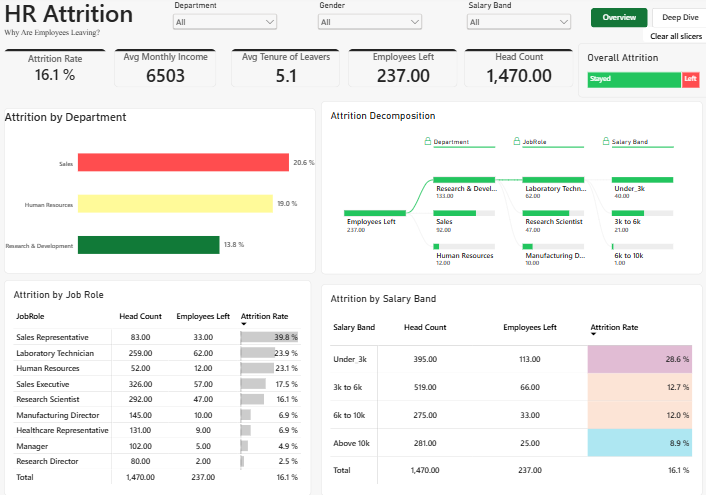

This screenshot's page, from the dashboard's own definition file:
{"tool":"powerbi","page":{"name":"Overview","canvas":[1280,900],"ordinal":0},"visuals":[{"type":"textbox","box":[10.5,0,245.9,56.5],"z":0},{"type":"textbox","box":[10.5,56.5,197.8,22],"z":1},{"type":"slicer","fields":{"Values":["hr_employees.Department"]},"box":[309.8,8.4,197.8,59.7],"z":2},{"type":"slicer","fields":{"Values":["hr_employees.Gender"]},"box":[571.4,8.4,197.8,59.7],"z":3},{"type":"slicer","fields":{"Values":["hr_employees.Salary Band"]},"box":[838.3,8.4,197.8,59.7],"z":4},{"type":"actionButton","box":[1160.6,56.5,119.3,27.2],"z":5},{"type":"pageNavigator","box":[1067.4,20.9,212.4,35.6],"z":6},{"type":"cardVisual","title":"ATTRITION RATE","fields":{"Data":["hr_employees.Attrition Rate"]},"box":[10.5,95.2,184,69.1],"z":7},{"type":"cardVisual","fields":{"Data":["hr_employees.Avg Monthly Income"]},"box":[208.3,95.2,184.2,69.1],"z":8},{"type":"cardVisual","fields":{"Data":["hr_employees.Head Count"]},"box":[838.3,95.2,197.8,69.1],"z":10},{"type":"cardVisual","fields":{"Data":["hr_employees.Avg Tenure of Leavers"]},"box":[418.6,95.2,196.7,69.1],"z":11},{"type":"cardVisual","fields":{"Data":["hr_employees.Employees Left"]},"box":[630,95.2,197.8,69.1],"z":12},{"type":"treemap","title":"Overall Attrition","fields":{"Values":["hr_employees.Employees Stayed","hr_employees.Employees Left"]},"box":[1043.4,83.7,236.5,98.4],"z":13},{"type":"barChart","title":"Attrition by Department","fields":{"Category":["hr_employees.Department"],"Y":["hr_employees.Attrition Rate"]},"box":[10.5,202,560.9,298.3],"z":14},{"type":"decompositionTreeVisual","title":"Attrition Decomposition","fields":{"Analyze":["hr_employees.Employees Left"],"ExplainBy":["hr_employees.Department","hr_employees.JobRole","hr_employees.Salary Band"]},"box":[580.8,188.4,686.5,311.9],"z":15},{"type":"pivotTable","title":"Attrition by Job Role","fields":{"Rows":["hr_employees.JobRole"],"Values":["hr_employees.Head Count","hr_employees.Employees Left","hr_employees.Attrition Rate"]},"box":[10.5,510.7,552.6,389.3],"z":16},{"type":"pivotTable","title":"Attrition by Salary Band","fields":{"Rows":["hr_employees.Salary Band"],"Values":["hr_employees.Head Count","hr_employees.Employees Left","hr_employees.Attrition Rate"]},"box":[580.8,518,686.5,382],"z":17}]}

Visuals, with their boxes in screenshot pixels (x1, y1, x2, y2), scaled from the page's 1280x900 canvas onto the 706x495 screenshot:
textbox: [6, 0, 141, 31]
textbox: [6, 31, 115, 43]
slicer - hr_employees.Department: [171, 5, 280, 37]
slicer - hr_employees.Gender: [315, 5, 424, 37]
slicer - hr_employees.Salary Band: [462, 5, 571, 37]
actionButton: [640, 31, 705, 46]
pageNavigator: [589, 11, 705, 31]
"ATTRITION RATE" cardVisual: [6, 52, 107, 90]
cardVisual - hr_employees.Avg Monthly Income: [115, 52, 216, 90]
cardVisual - hr_employees.Head Count: [462, 52, 571, 90]
cardVisual - hr_employees.Avg Tenure of Leavers: [231, 52, 339, 90]
cardVisual - hr_employees.Employees Left: [347, 52, 457, 90]
"Overall Attrition" treemap: [576, 46, 705, 100]
"Attrition by Department" barChart: [6, 111, 315, 275]
"Attrition Decomposition" decompositionTreeVisual: [320, 104, 699, 275]
"Attrition by Job Role" pivotTable: [6, 281, 311, 494]
"Attrition by Salary Band" pivotTable: [320, 285, 699, 494]
